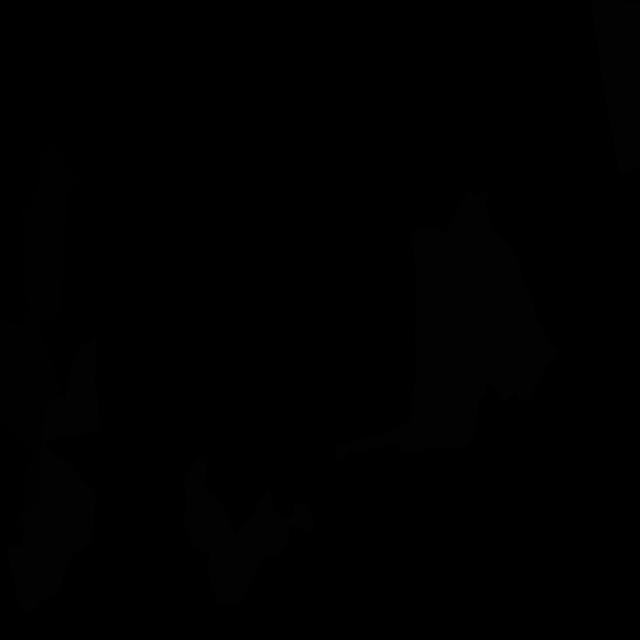cardboard: (335, 224, 487, 462), (8, 335, 100, 613), (447, 188, 558, 402), (183, 457, 314, 605), (591, 0, 640, 173)
rigid_plastic: (0, 144, 79, 535)
